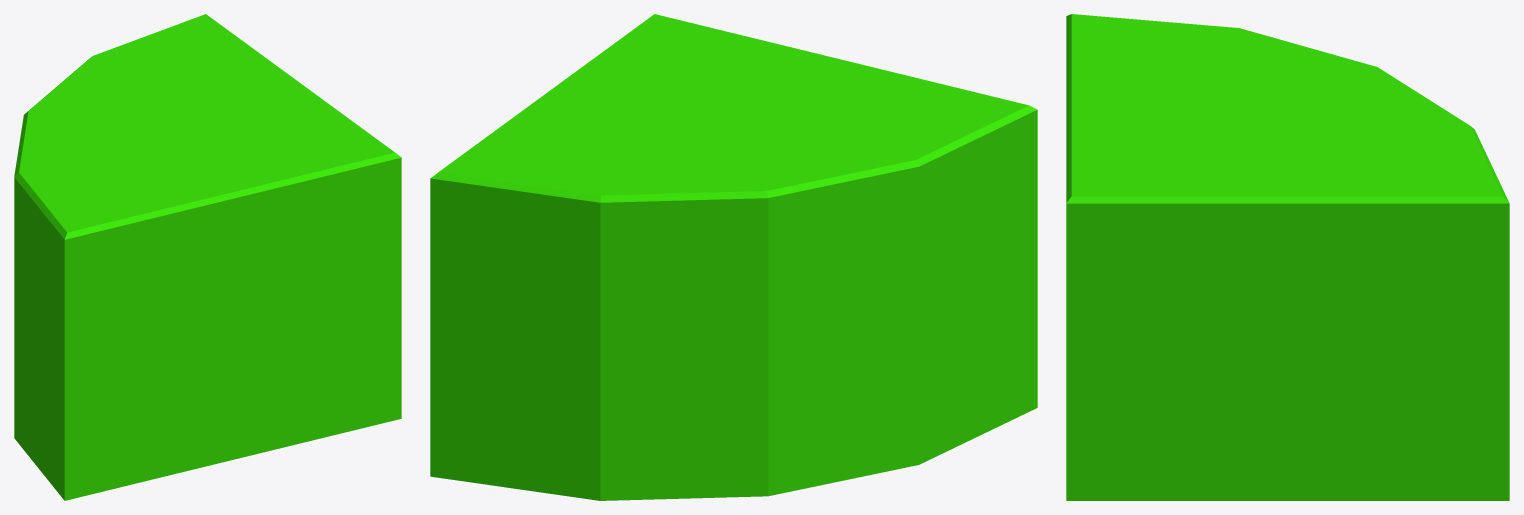
The model's file is round_4x3_02.fbx.
3 views of the same model, side by side, from view 1: azimuth 30°, elevation 25°; view 2: azimuth 150°, elevation 25°; view 3: azimuth 270°, elevation 25° (orthographic). The views are drawn at different scales.
Visible parts, largest first — view 1: round_4x3_02; view 2: round_4x3_02; view 3: round_4x3_02.
Part boxes in pixels (x1=…): round_4x3_02: x1=14, y1=14, x2=401, y2=500; round_4x3_02: x1=430, y1=14, x2=1037, y2=500; round_4x3_02: x1=1066, y1=14, x2=1509, y2=500.
Size of the model in its own units: 412 by 310 by 412.
